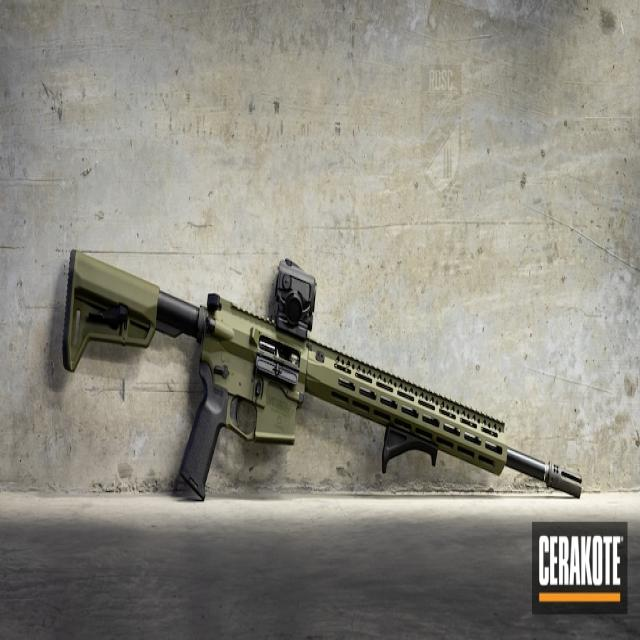Rifle: (64, 252, 583, 501)
